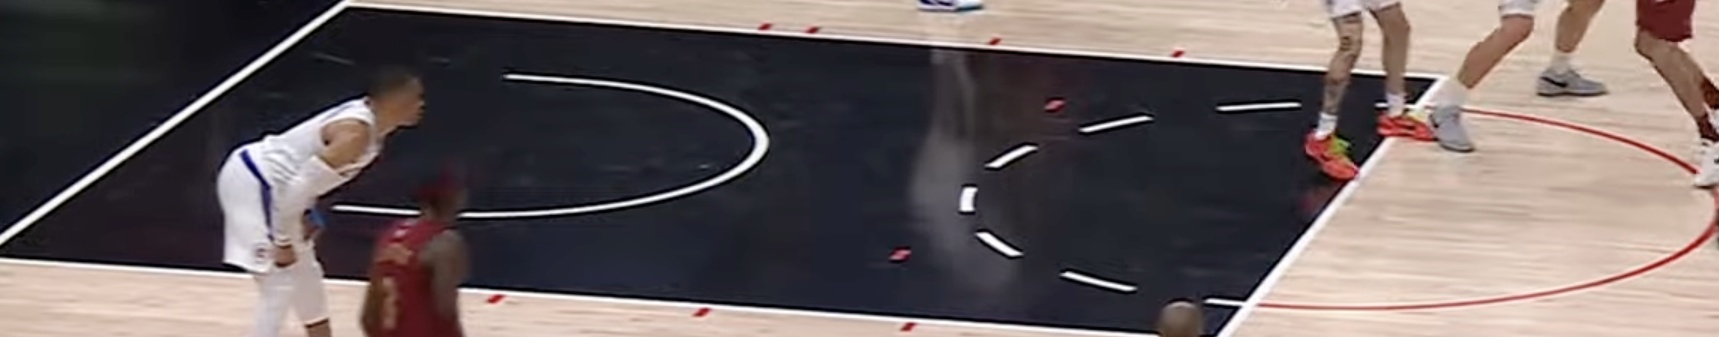endLine: (1, 7, 341, 239)
freeThrow: (1219, 75, 1443, 336)
lane: (1, 257, 1193, 337), (344, 4, 1441, 77)
